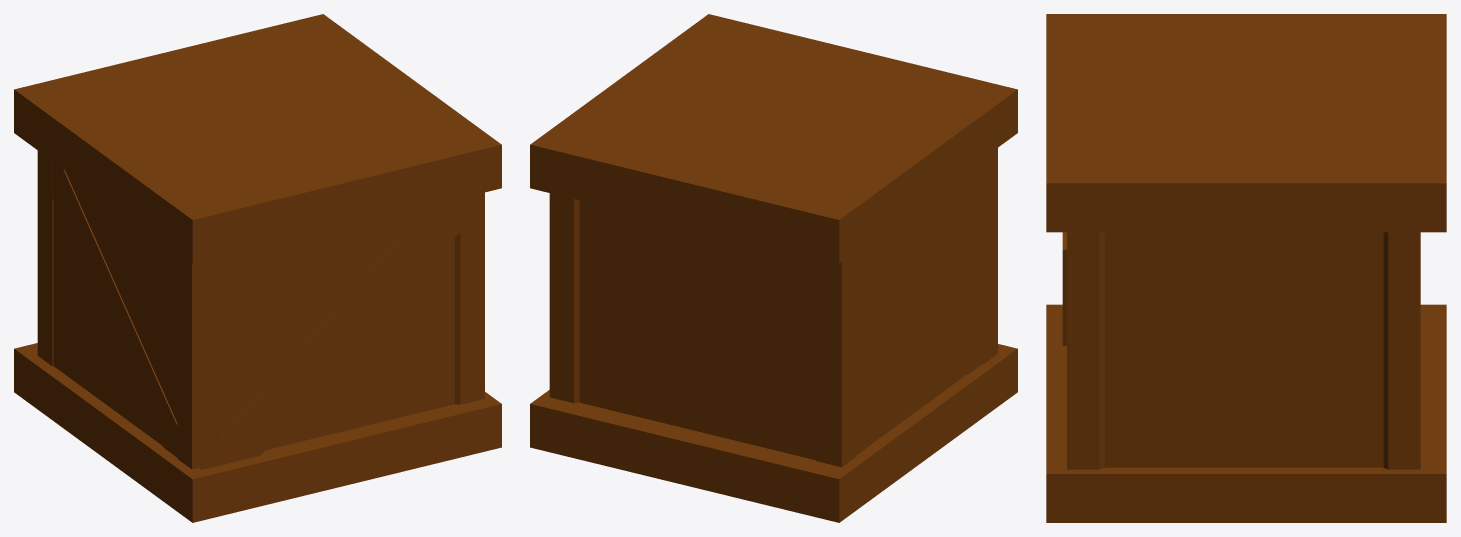
3 views of the same model, side by side, from view 1: azimuth 30°, elevation 25°; view 2: azimuth 150°, elevation 25°; view 3: azimuth 270°, elevation 25° (orthographic). The views are drawn at different scales.
Visible parts, largest first — view 1: Cube, Cube.001, Cube.002; view 2: Cube, Cube.002; view 3: Cube, Cube.001.
Part boxes in pixels (x1,y1,x2,y2): Cube: (14, 14, 501, 522); Cube.001: (196, 196, 480, 469); Cube.002: (52, 161, 177, 457); Cube: (530, 14, 1017, 522); Cube.002: (856, 243, 981, 374); Cube: (1046, 14, 1446, 522); Cube.001: (1062, 232, 1066, 345).
Bounding box in the file's own units: 200 × 187 × 200.
